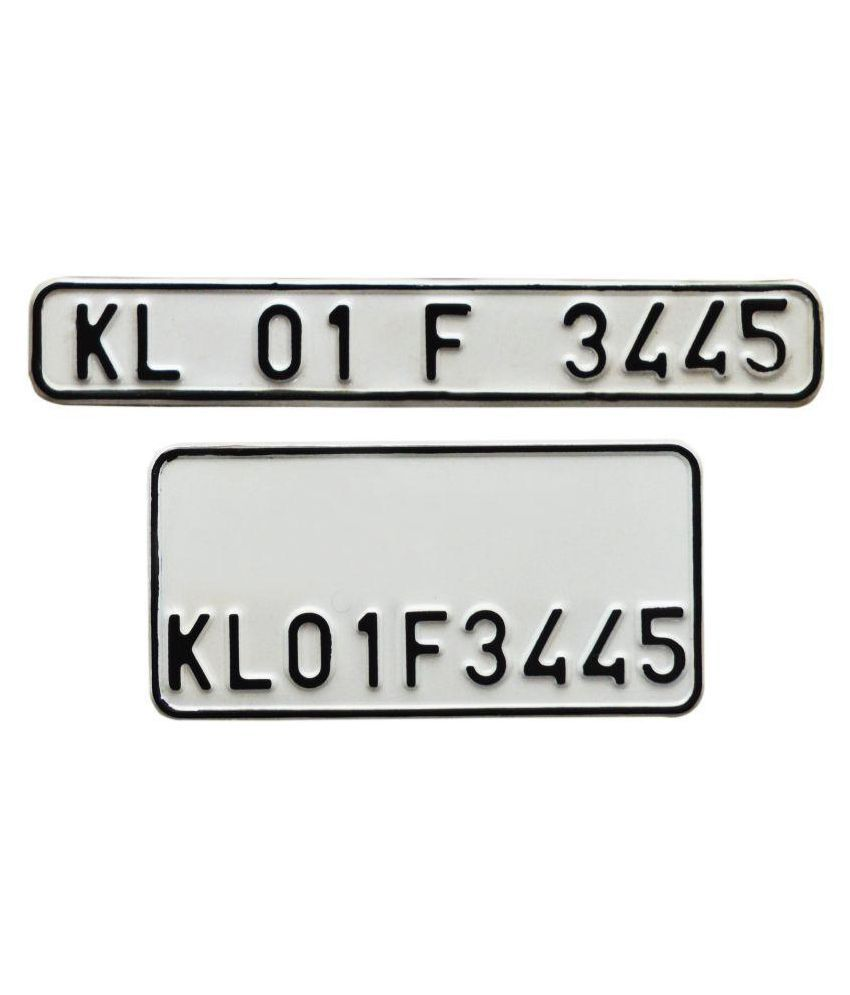number_plate: (145, 443, 712, 717), (27, 274, 827, 411)
